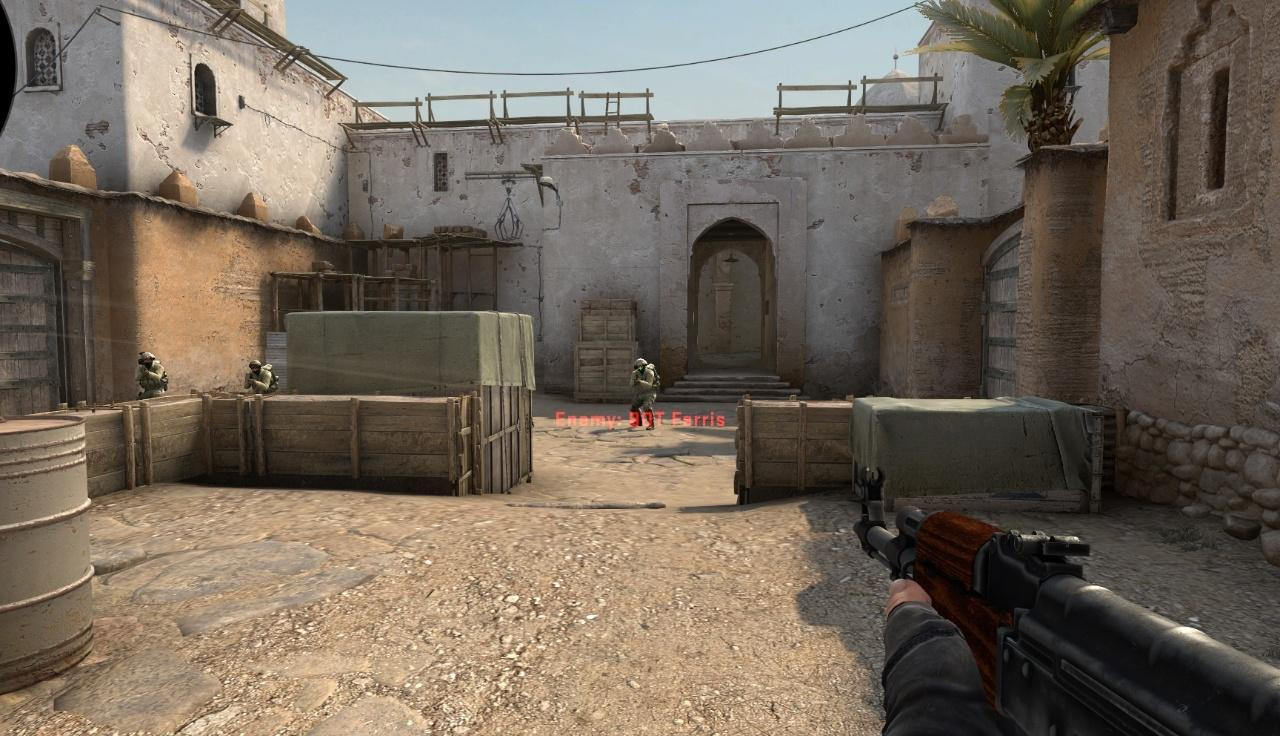ct: (631, 358, 656, 430), (135, 352, 166, 397), (247, 361, 276, 393)
cthead: (141, 353, 153, 368), (635, 358, 645, 373), (250, 362, 261, 374)
rifle: (856, 465, 1280, 736)
